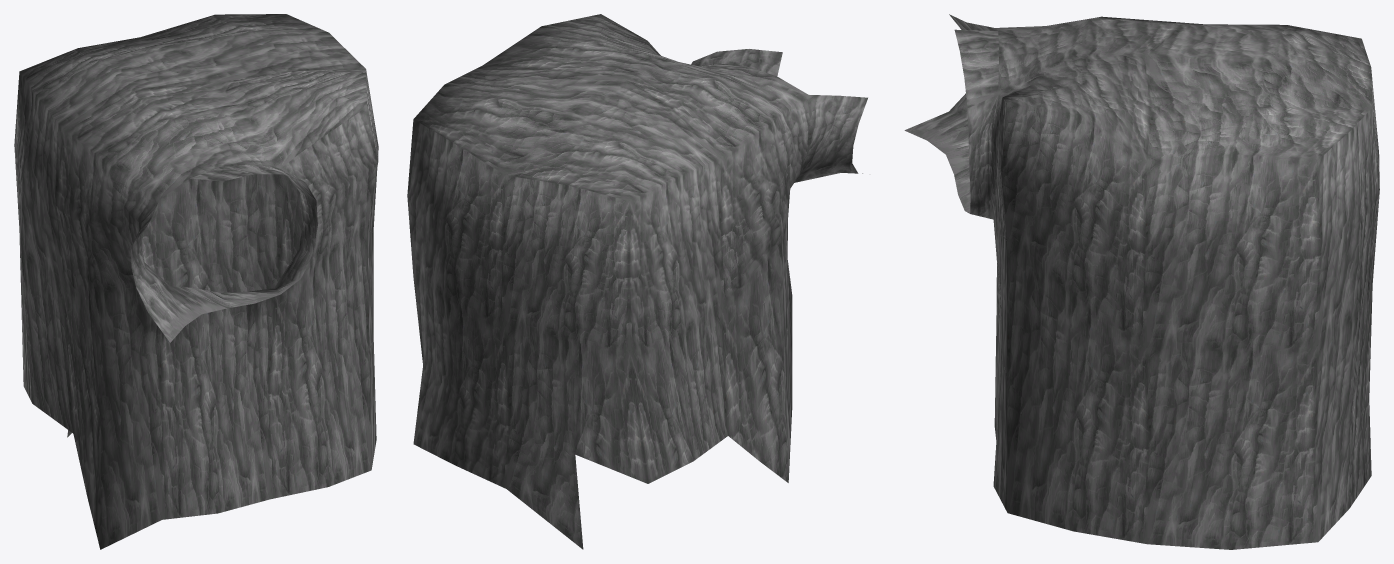
Rendered from SWORDLIGHT20_PS-AREA02-03TRANS_06.fbx.
3 views of the same model, side by side, from view 1: azimuth 30°, elevation 25°; view 2: azimuth 150°, elevation 25°; view 3: azimuth 270°, elevation 25° (orthographic). The views are drawn at different scales.
Parts seen in each view (by area): view 1: SWORDLIGHT20_PS-AREA02-03TRANS_06; view 2: SWORDLIGHT20_PS-AREA02-03TRANS_06; view 3: SWORDLIGHT20_PS-AREA02-03TRANS_06.
Part boxes in pixels (x1,y1,x2,y2): SWORDLIGHT20_PS-AREA02-03TRANS_06: (14,14,378,549); SWORDLIGHT20_PS-AREA02-03TRANS_06: (407,14,867,549); SWORDLIGHT20_PS-AREA02-03TRANS_06: (904,14,1379,549).
Bounding box in the file's own units: 147685 × 179559 × 166497.
3 materials, 3 textured.
